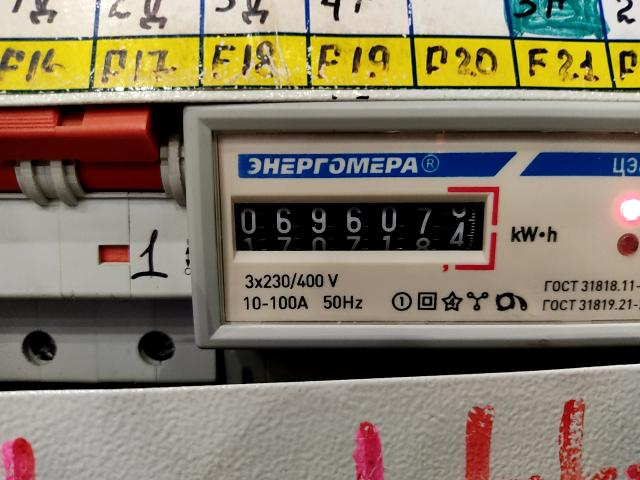0: (238, 206, 259, 236), (380, 205, 399, 234)
4: (447, 220, 466, 249)
6: (344, 205, 364, 236), (274, 206, 293, 235)
7: (415, 204, 433, 235)
9: (309, 206, 329, 235)
screen: (220, 180, 503, 272)
